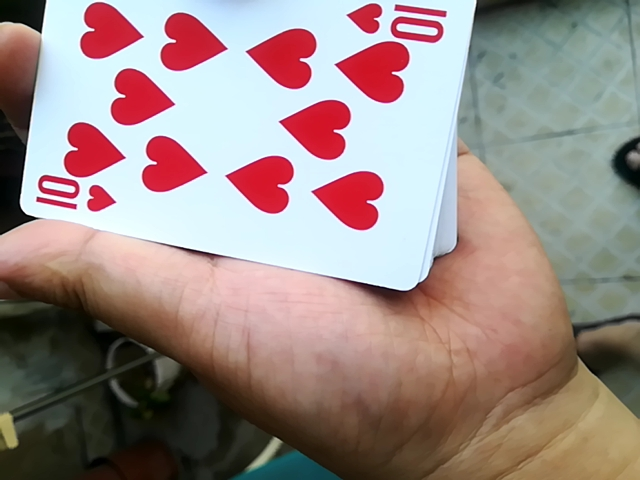hx 10: (4, 0, 477, 300)
